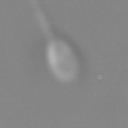normal: (26, 1, 55, 40)
